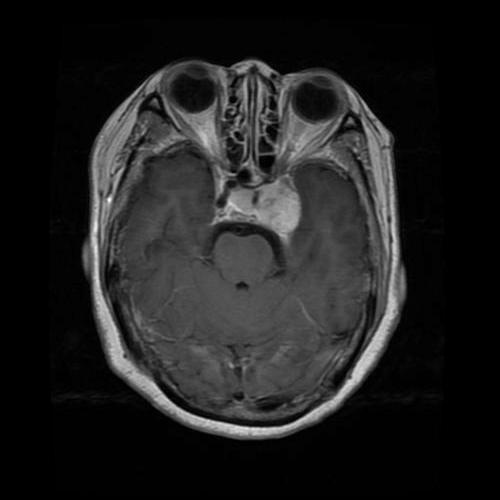Tumour-Pituitary: (195, 168, 353, 255)
